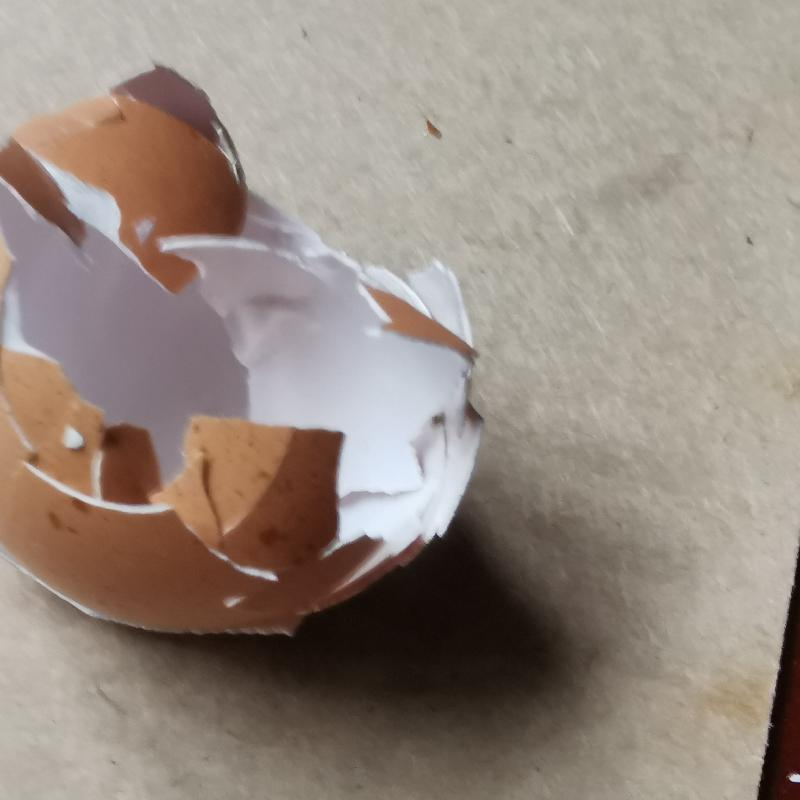eggshell: (6, 65, 485, 662)
